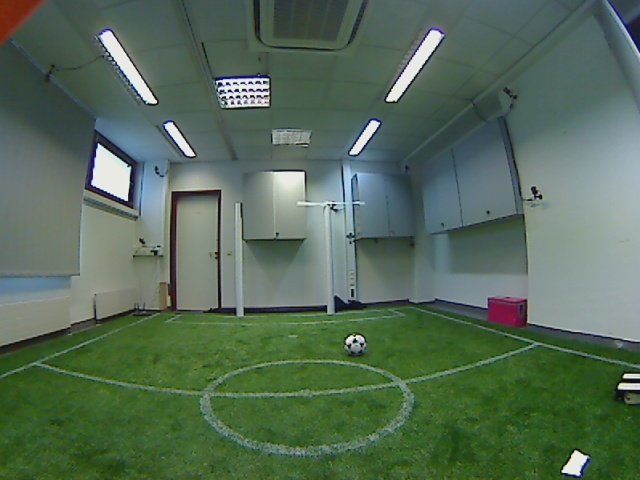ball: (339, 328, 372, 360)
